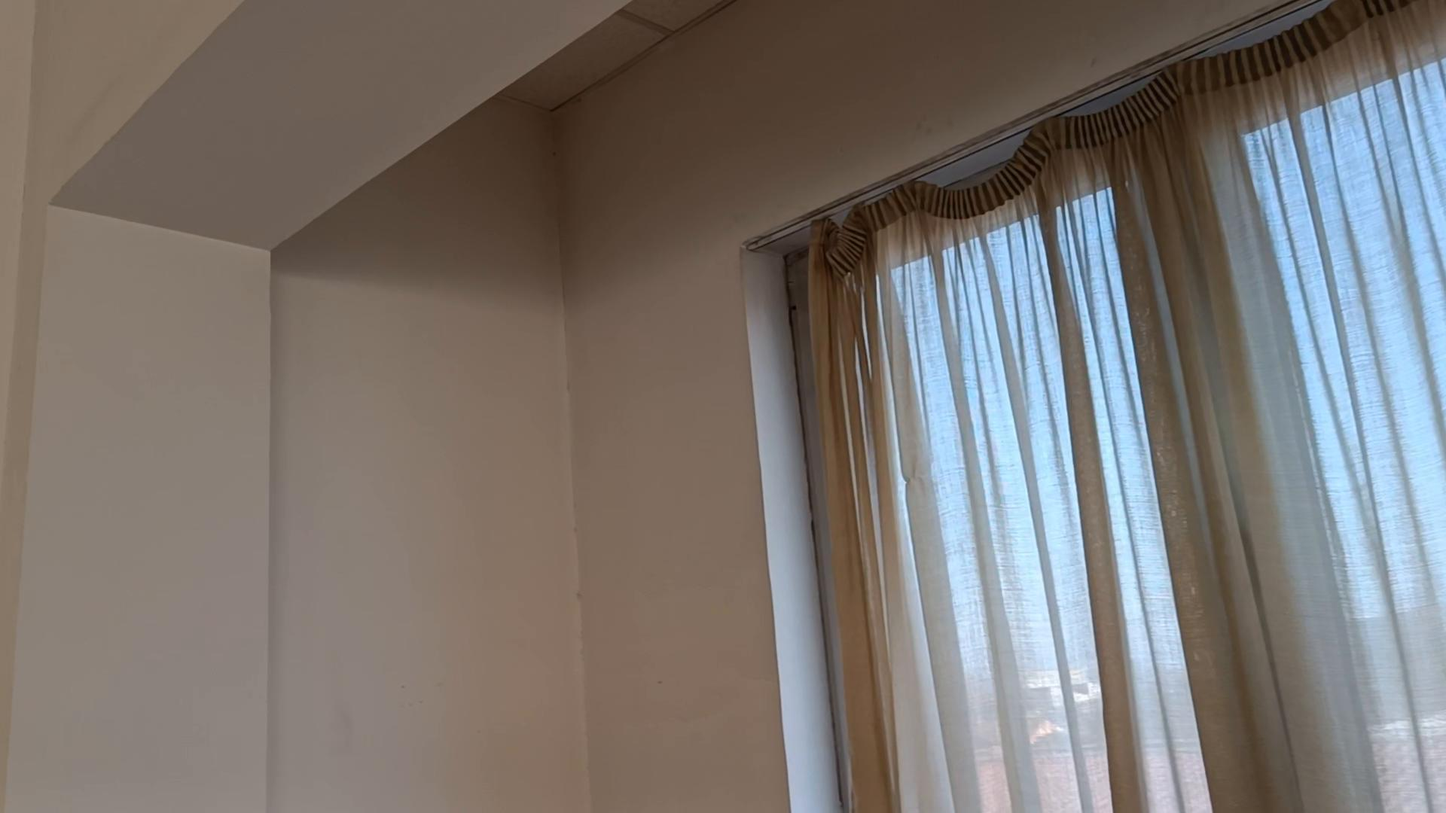ceiling: (14, 0, 712, 249), (53, 0, 628, 249)
pillar: (4, 209, 270, 812)
wall: (5, 100, 636, 811), (1226, 84, 1445, 809)
